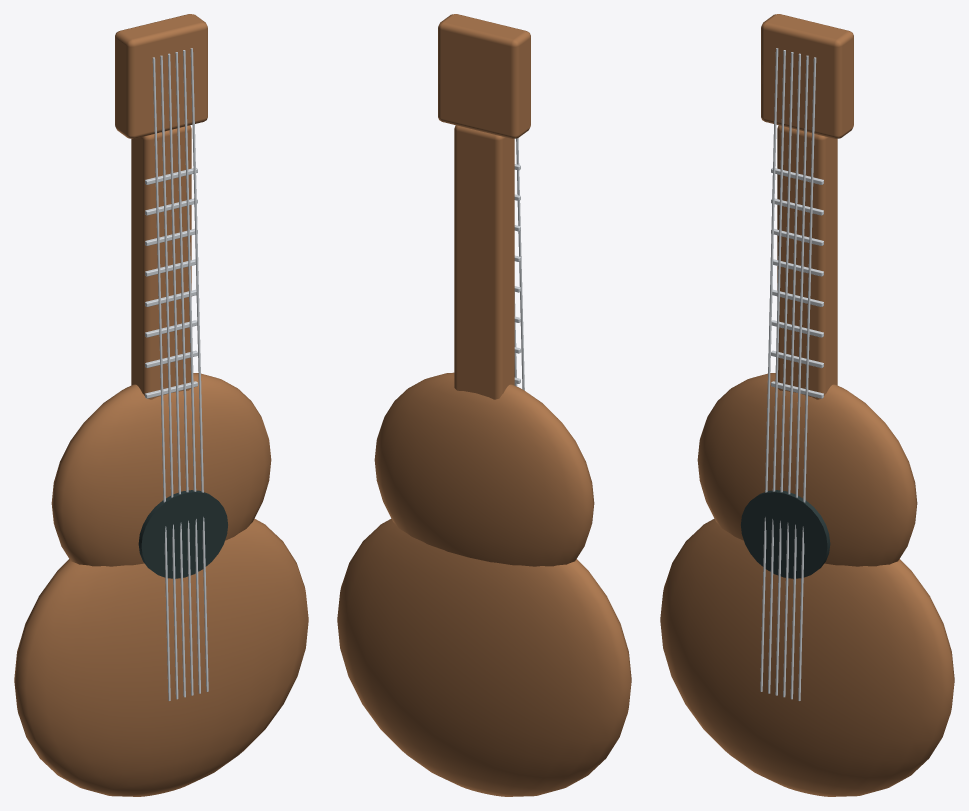
File: wp-guitare-acoustique.glb
3 views of the same model, side by side, from view 1: azimuth 30°, elevation 25°; view 2: azimuth 150°, elevation 25°; view 3: azimuth 330°, elevation 25° (orthographic).
Parts seen in each view (by area): view 1: wp-guitare-acoustique; view 2: wp-guitare-acoustique; view 3: wp-guitare-acoustique.
Boxes of the visible parts, left/top/right/bottom form: wp-guitare-acoustique: left=14, top=14, right=308, bottom=796; wp-guitare-acoustique: left=337, top=14, right=631, bottom=796; wp-guitare-acoustique: left=660, top=14, right=954, bottom=796.
Bounding box in the file's own units: 0.4 × 1 × 0.12.
